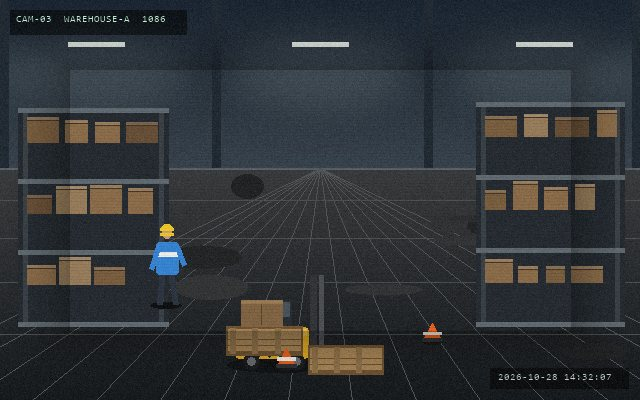cone: (275, 346, 297, 370), (421, 321, 443, 344)
forklift: (231, 274, 349, 372)
pallet: (224, 324, 304, 357), (306, 343, 385, 376)
person: (149, 222, 186, 307)
shelf: (476, 102, 624, 322), (18, 108, 168, 322)
